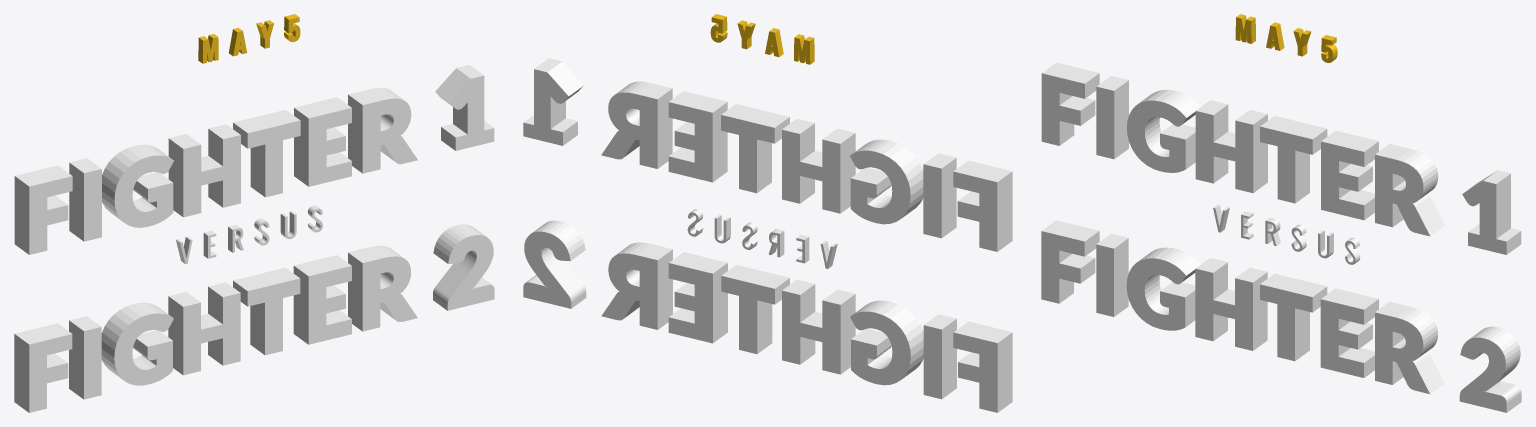
Rendered from fertext.glb.
3 renders of one model, left to right at view 1: azimuth 30°, elevation 25°; view 2: azimuth 150°, elevation 25°; view 3: azimuth 330°, elevation 25°, orthographic.
Parts seen in each view (by area): view 1: 3D Text 1 - H, 3D Text 2 - H, 3D Text 1 - G, 3D Text 2 - G, 3D Text 1 - R, 3D Text 2 - R, 3D Text 2 - E, 3D Text 1 - E, 3D Text 2 - 2, 3D Text 1 - F, 3D Text 2 - F, 3D Text 2 - T (+5 smaller); view 2: 3D Text 2 - H, 3D Text 1 - H, 3D Text 1 - G, 3D Text 2 - G, 3D Text 1 - R, 3D Text 2 - R, 3D Text 2 - E, 3D Text 1 - E, 3D Text 2 - 2, 3D Text 1 - F, 3D Text 2 - F, 3D Text 2 - T (+5 smaller); view 3: 3D Text 1 - H, 3D Text 2 - H, 3D Text 1 - R, 3D Text 2 - R, 3D Text 2 - G, 3D Text 1 - G, 3D Text 2 - E, 3D Text 1 - E, 3D Text 1 - F, 3D Text 2 - F, 3D Text 2 - 2, 3D Text 2 - T (+5 smaller).
Part boxes in pixels (box(x1,y1,x2,y2)): 3D Text 1 - H: box(168, 124, 240, 217); 3D Text 2 - H: box(168, 282, 240, 375); 3D Text 1 - G: box(102, 144, 173, 227); 3D Text 2 - G: box(101, 302, 173, 385); 3D Text 1 - R: box(348, 87, 417, 173); 3D Text 2 - R: box(348, 245, 417, 331); 3D Text 2 - E: box(293, 255, 351, 344); 3D Text 1 - E: box(294, 97, 351, 186); 3D Text 2 - 2: box(433, 224, 494, 310); 3D Text 1 - F: box(14, 165, 72, 254); 3D Text 2 - F: box(14, 323, 72, 412); 3D Text 2 - T: box(233, 267, 300, 355); 3D Text 2 - H: box(782, 279, 855, 374); 3D Text 1 - H: box(782, 118, 855, 213); 3D Text 1 - G: box(850, 139, 923, 224); 3D Text 2 - G: box(850, 300, 923, 385); 3D Text 1 - R: box(601, 81, 672, 168); 3D Text 2 - R: box(601, 242, 672, 329); 3D Text 2 - E: box(668, 252, 727, 343); 3D Text 1 - E: box(668, 91, 727, 182); 3D Text 2 - 2: box(523, 220, 586, 308); 3D Text 1 - F: box(953, 160, 1012, 251); 3D Text 2 - F: box(953, 321, 1012, 412); 3D Text 2 - T: box(721, 265, 789, 353); 3D Text 1 - H: box(1195, 100, 1267, 192); 3D Text 2 - H: box(1195, 258, 1267, 350); 3D Text 1 - R: box(1375, 144, 1444, 236); 3D Text 2 - R: box(1375, 301, 1444, 394); 3D Text 2 - G: box(1126, 247, 1200, 330); 3D Text 1 - G: box(1126, 89, 1200, 172); 3D Text 2 - E: box(1320, 288, 1378, 377); 3D Text 1 - E: box(1321, 130, 1378, 220); 3D Text 1 - F: box(1041, 62, 1099, 145); 3D Text 2 - F: box(1041, 220, 1099, 303); 3D Text 2 - 2: box(1459, 326, 1521, 412); 3D Text 2 - T: box(1260, 273, 1327, 361).
Bounding box in the file's own units: 0.2734 × 0.1799 × 0.015.
